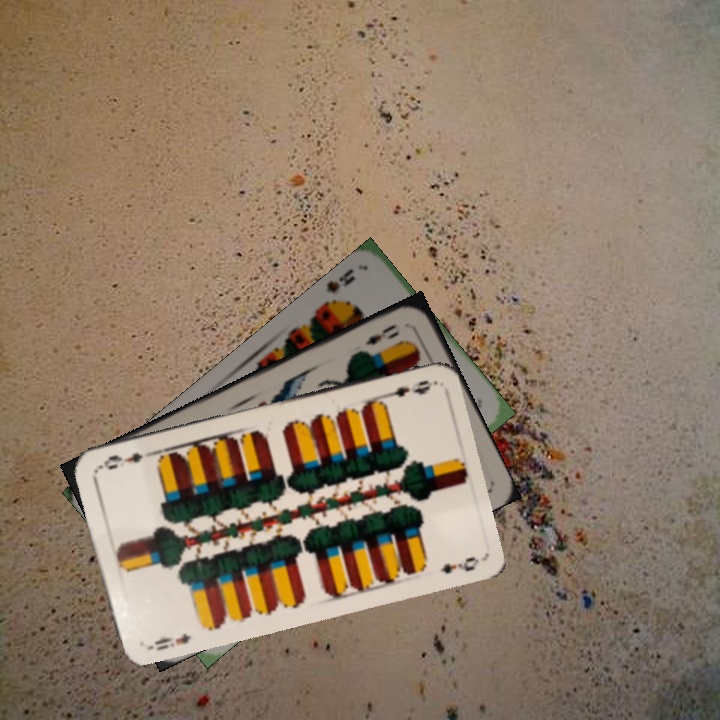E9: (377, 376, 435, 406), (143, 628, 194, 653)
EO: (361, 319, 402, 348)
S9: (317, 264, 358, 313)
